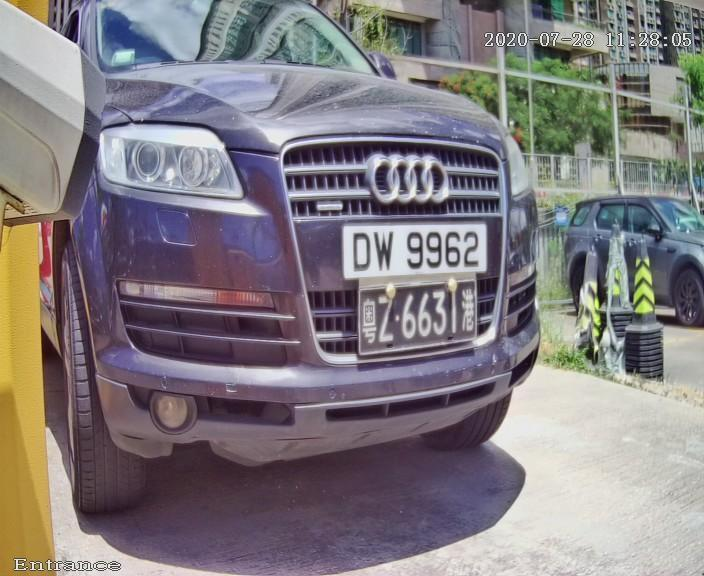privatecar: (16, 11, 610, 566)
